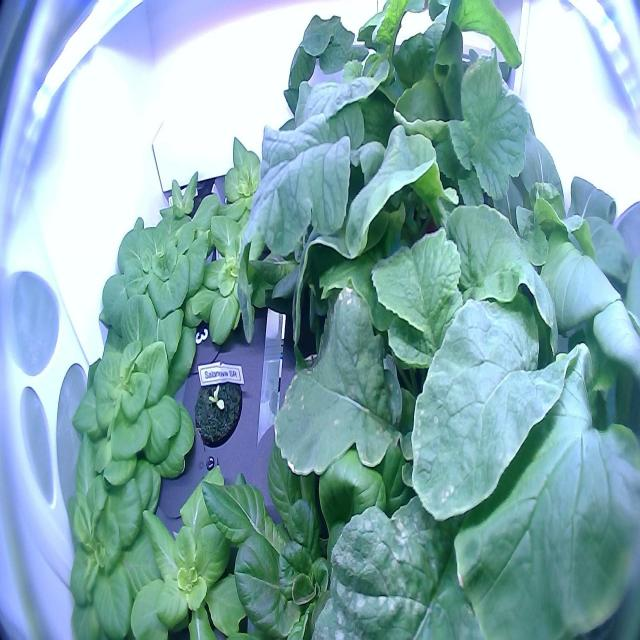germination: (189, 360, 243, 452)
young: (189, 396, 453, 640), (59, 292, 201, 506), (126, 458, 284, 640), (58, 428, 187, 640), (94, 190, 218, 367), (176, 205, 294, 353), (206, 124, 294, 235), (152, 164, 216, 236)
